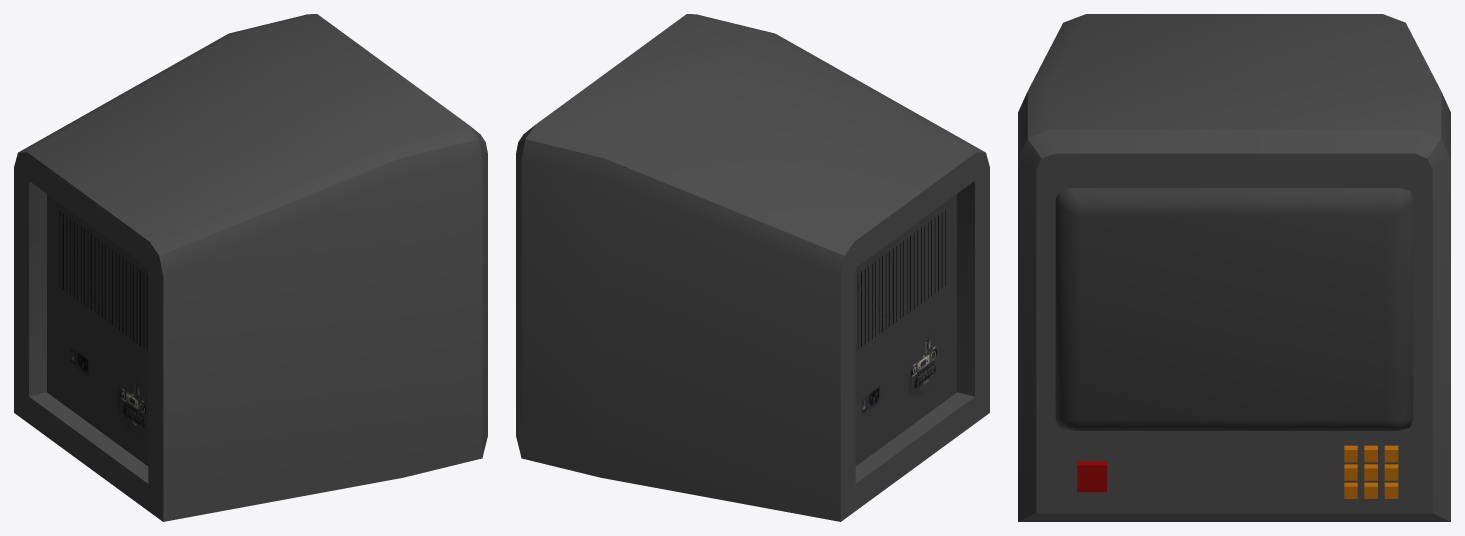
3 renders of one model, left to right at view 1: azimuth 30°, elevation 25°; view 2: azimuth 150°, elevation 25°; view 3: azimuth 270°, elevation 25°, orthographic. The views are drawn at different scales.
Visible parts, largest first — view 1: Body; view 2: Body; view 3: Body, Screen, Buttons, PowerButton.
Part boxes in pixels (x1,y1,x2,y2): Body: (14, 14, 487, 521); Body: (516, 14, 989, 521); Body: (1018, 14, 1450, 521); Screen: (1055, 188, 1413, 430); Buttons: (1344, 445, 1398, 498); PowerButton: (1077, 461, 1106, 492).
Size of the model in its own units: 85.61 by 80 by 80.
6 materials, 1 textured.
